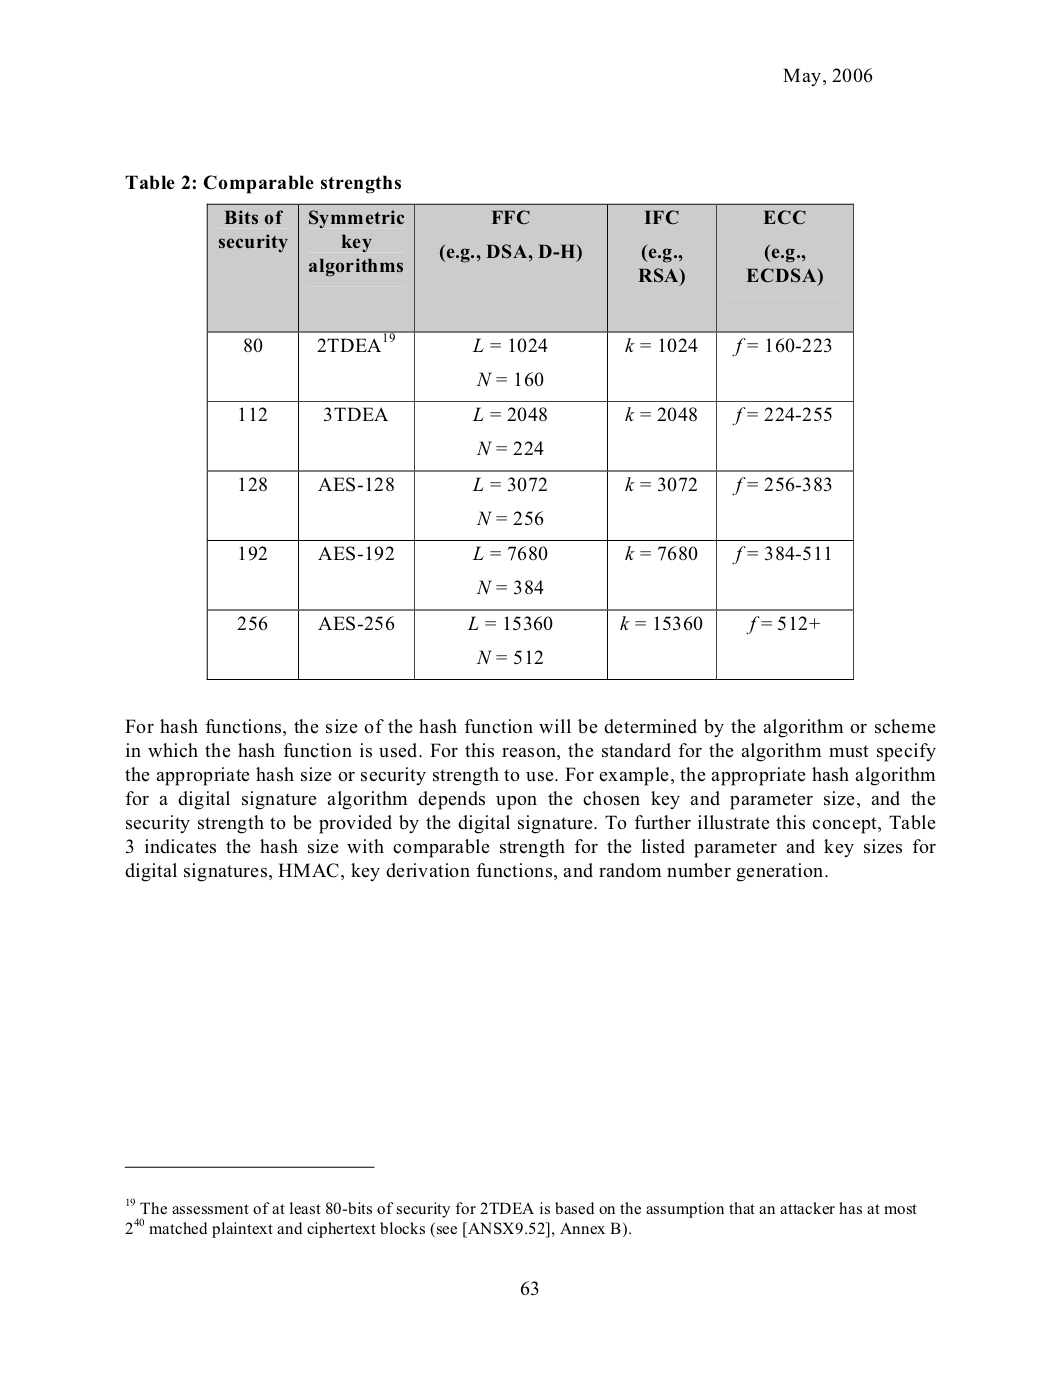Table: (206, 202, 853, 680)
